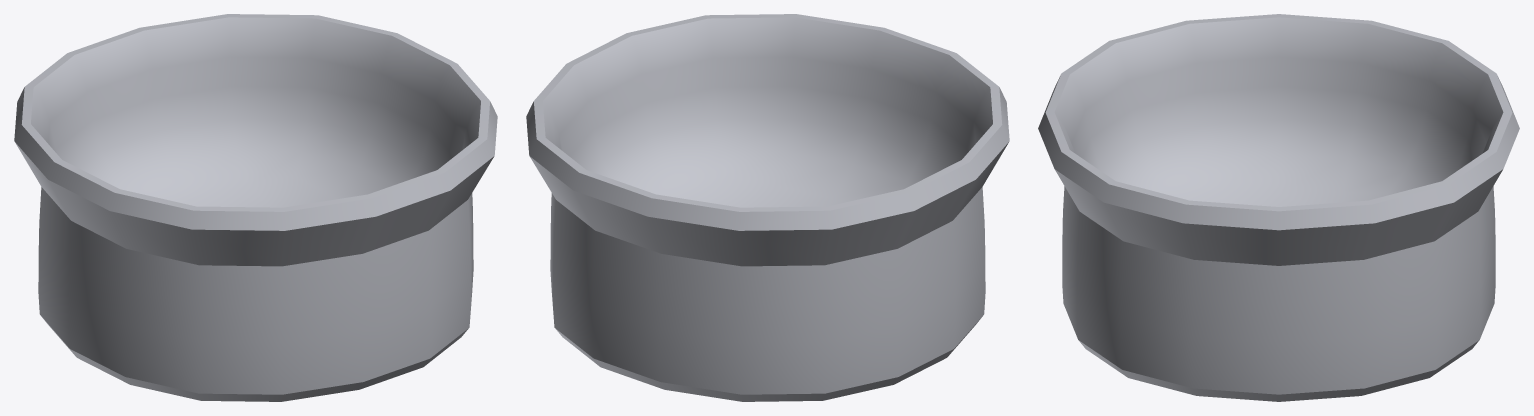
The model's file is Vessel.fbx.
The picture shows the model from 3 angles, left to right: view 1: azimuth 30°, elevation 25°; view 2: azimuth 150°, elevation 25°; view 3: azimuth 270°, elevation 25°; orthographic projection.
Visible parts, largest first — view 1: Vessel; view 2: Vessel; view 3: Vessel.
Boxes of the visible parts, x1,y1,x2,y2 form: Vessel: (14,14,497,401); Vessel: (526,14,1009,401); Vessel: (1038,14,1519,401).
Size of the model in its own units: 177 by 83.99 by 177.
